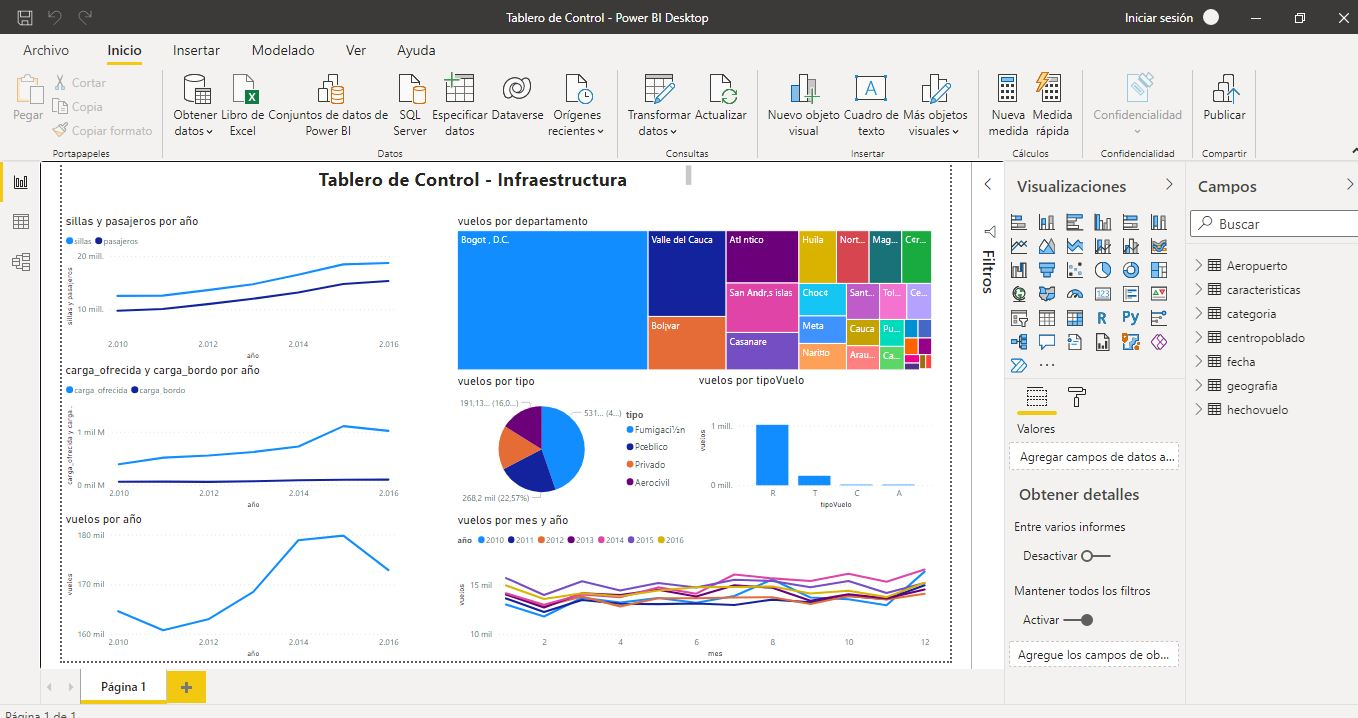

This screenshot's page, from the dashboard's own definition file:
{"tool":"powerbi","page":{"name":"Página 1","canvas":[1280,720],"ordinal":0},"visuals":[{"type":"lineChart","fields":{"Y":["Sum(hechovuelo.sillas)","Sum(hechovuelo.pasajeros)"],"Category":["fecha.año"]},"box":[0,75,491,215],"z":0},{"type":"lineChart","fields":{"Y":["Sum(hechovuelo.carga_ofrecida)","Sum(hechovuelo.carga_bordo)"],"Category":["fecha.año"]},"box":[0,290,491,215],"z":1000},{"type":"treemap","fields":{"Group":["geografia.departamento"],"Values":["Sum(hechovuelo.vuelos)"]},"box":[566.2,74.7,694.1,229.9],"z":2000},{"type":"lineChart","fields":{"Y":["Sum(hechovuelo.vuelos)"],"Category":["fecha.año"]},"box":[0,505,491,215],"z":3000},{"type":"lineChart","fields":{"Category":["fecha.mes"],"Y":["Sum(hechovuelo.vuelos)"],"Series":["fecha.año"]},"box":[566.2,505.9,694.1,214.1],"z":3001},{"type":"pieChart","fields":{"Series":["Aeropuerto.tipo"],"Y":["Sum(hechovuelo.vuelos)"]},"box":[566.2,306.1,347.8,198.3],"z":3002},{"type":"textbox","box":[365,0,547.5,54.6],"z":3004},{"type":"columnChart","fields":{"Category":["caracteristicas.tipoVuelo"],"Y":["Sum(hechovuelo.vuelos)"]},"box":[914,304.7,347.8,201.2],"z":3005}]}

Visuals, with their boxes on the page's 1280x720 design canvas (x1, y1, x2, y2). These are canvas units, not pixel positions in the 1358x718 screenshot, which may show the page scaled, cropped or inside an application window:
lineChart - Sum(hechovuelo.sillas) x Sum(hechovuelo.pasajeros): bbox=[0, 75, 491, 290]
lineChart - Sum(hechovuelo.carga_ofrecida) x Sum(hechovuelo.carga_bordo): bbox=[0, 290, 491, 505]
treemap - geografia.departamento x Sum(hechovuelo.vuelos): bbox=[566, 75, 1260, 305]
lineChart - Sum(hechovuelo.vuelos) x fecha.año: bbox=[0, 505, 491, 720]
lineChart - fecha.mes x Sum(hechovuelo.vuelos): bbox=[566, 506, 1260, 720]
pieChart - Aeropuerto.tipo x Sum(hechovuelo.vuelos): bbox=[566, 306, 914, 504]
textbox: bbox=[365, 0, 912, 55]
columnChart - caracteristicas.tipoVuelo x Sum(hechovuelo.vuelos): bbox=[914, 305, 1262, 506]
